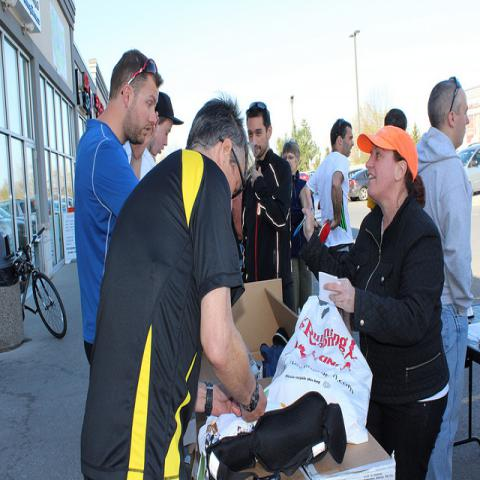car: (456, 143, 479, 193), (347, 168, 369, 202)
